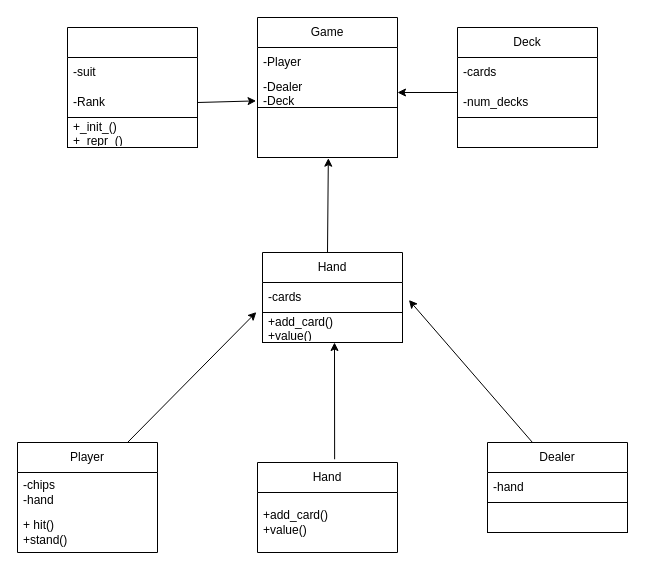
Some shapes in this 645 by 570 pixel diagram are drawn without their labels. Here are the shapes that lost their labels. From the top down, the box of each, then its label:
(66, 26, 198, 148): Card
(256, 106, 398, 158): +start_game() +deal_cards() +check_winners()
(456, 116, 598, 148): +shuffle() +draw()
(486, 502, 628, 532): +play()
